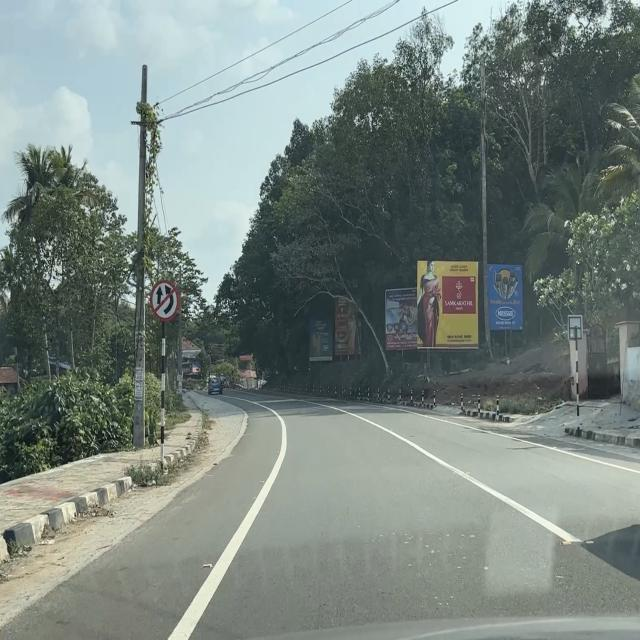OVERTAKING_PROHIBITED: (149, 279, 181, 323)
